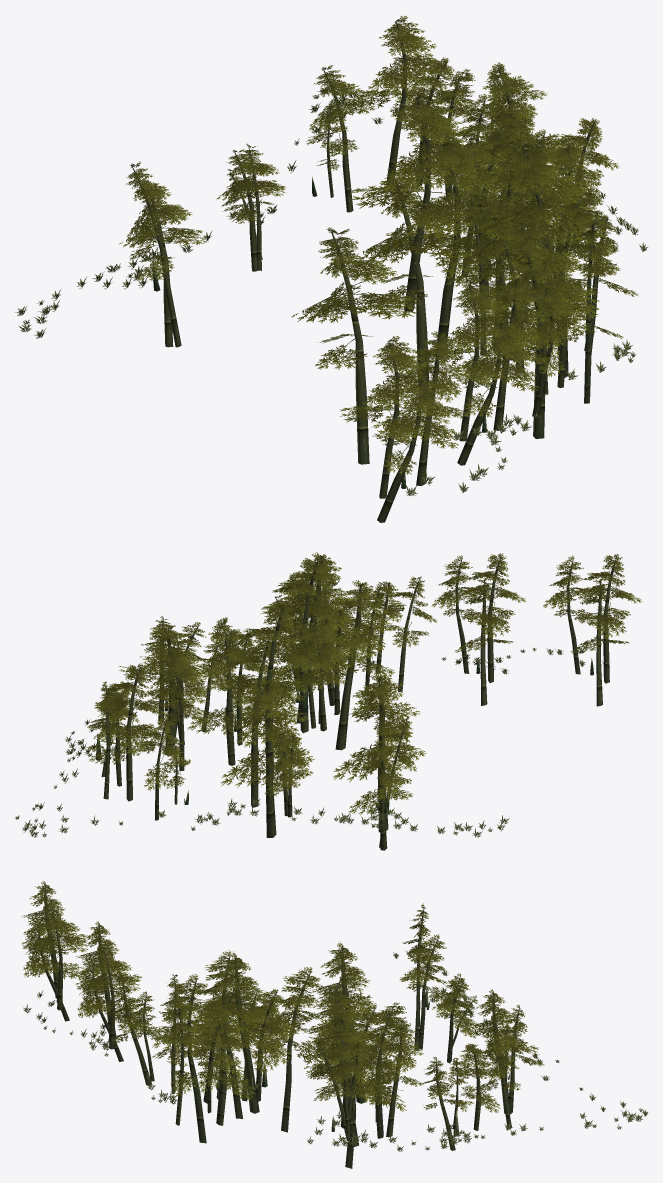
Rendered from Area_11_2.fbx.
The picture shows the model from 3 angles, top to bottom: view 1: azimuth 30°, elevation 25°; view 2: azimuth 150°, elevation 25°; view 3: azimuth 270°, elevation 25°; orthographic projection. The views are drawn at different scales.
Visible parts, largest first — view 1: Area_11_2; view 2: Area_11_2; view 3: Area_11_2.
Boxes of the visible parts, x1,y1,x2,y2 form: Area_11_2: (15, 16, 648, 522); Area_11_2: (15, 552, 642, 850); Area_11_2: (21, 881, 647, 1168).
Size of the model in its own units: 5126 by 2696 by 6943.
